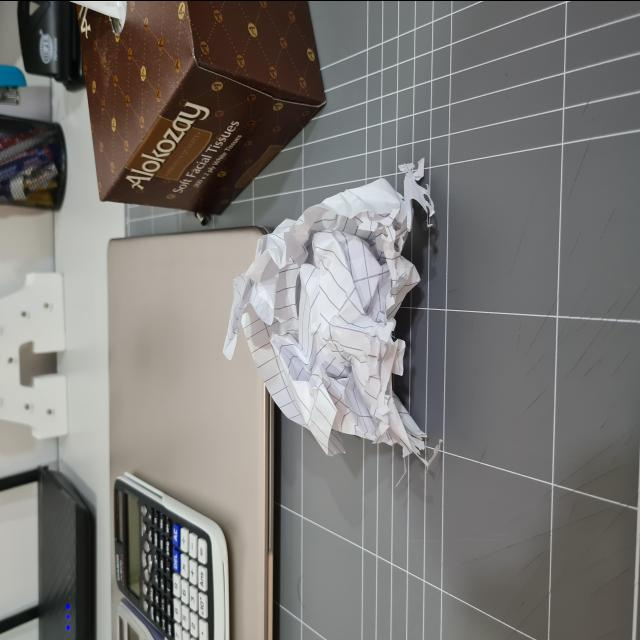kertas: (223, 162, 438, 472)
